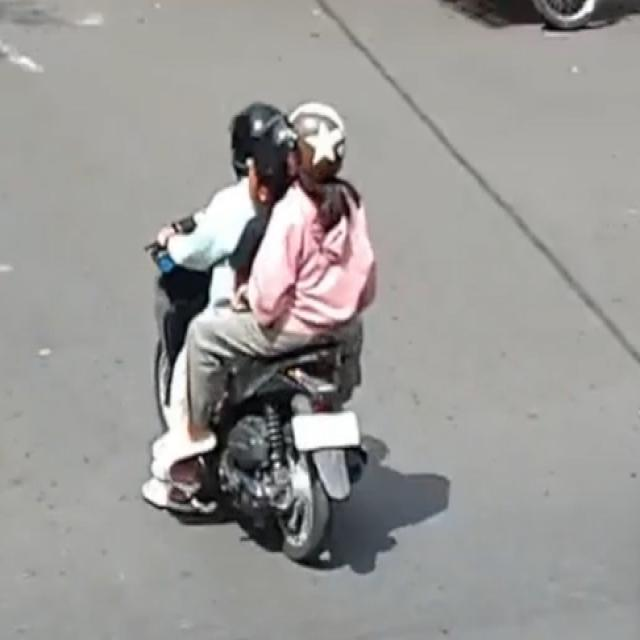helm: (278, 102, 351, 191), (226, 102, 288, 181)
motor: (140, 102, 380, 575)
spion: (145, 245, 184, 275)
